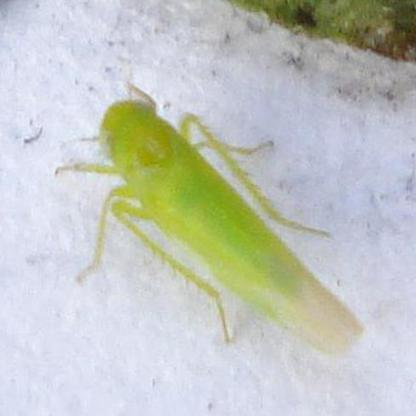green-leafhopper: (106, 99, 357, 350)
